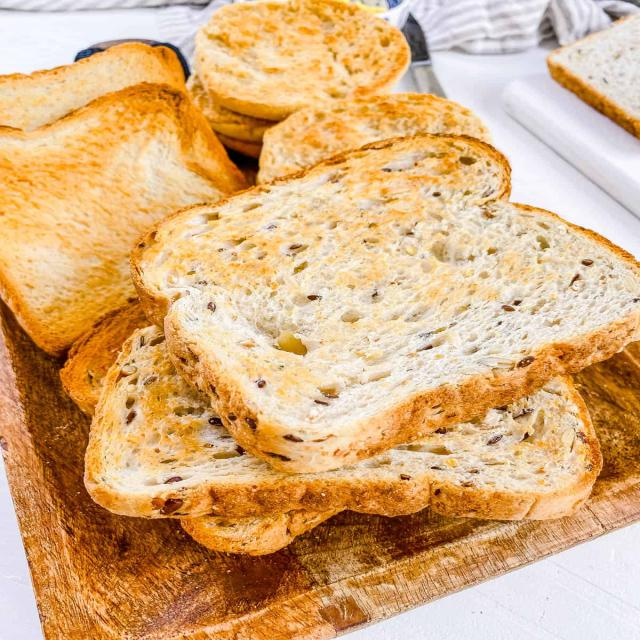Bread: (132, 135, 638, 472), (85, 326, 602, 520), (0, 82, 245, 355), (0, 42, 185, 131), (547, 14, 640, 137)
